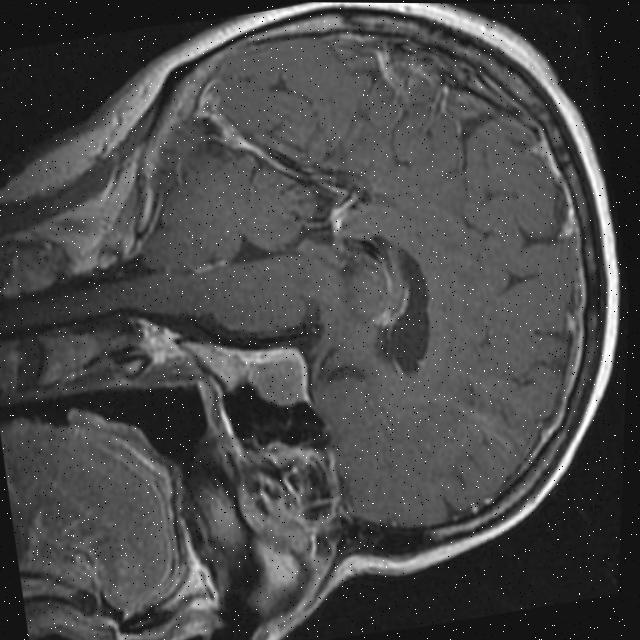Pituitary: (243, 343, 314, 412)
